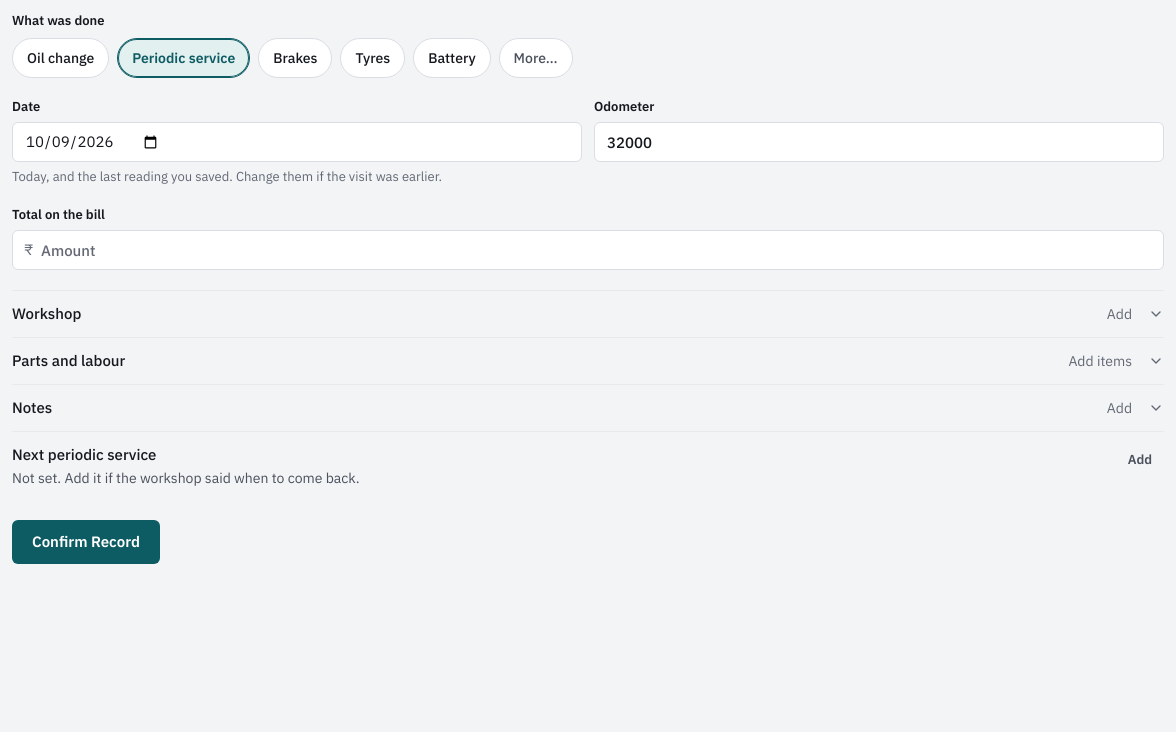
Test: MaintenanceForm › refuses a service at 0 km and an empty total, in words
The width and height of the screenshot is (1176, 732).
Replace the text in the number field labelled "Odometer" with "0". click: (879, 142)
box: 594,122 -> 1164,162
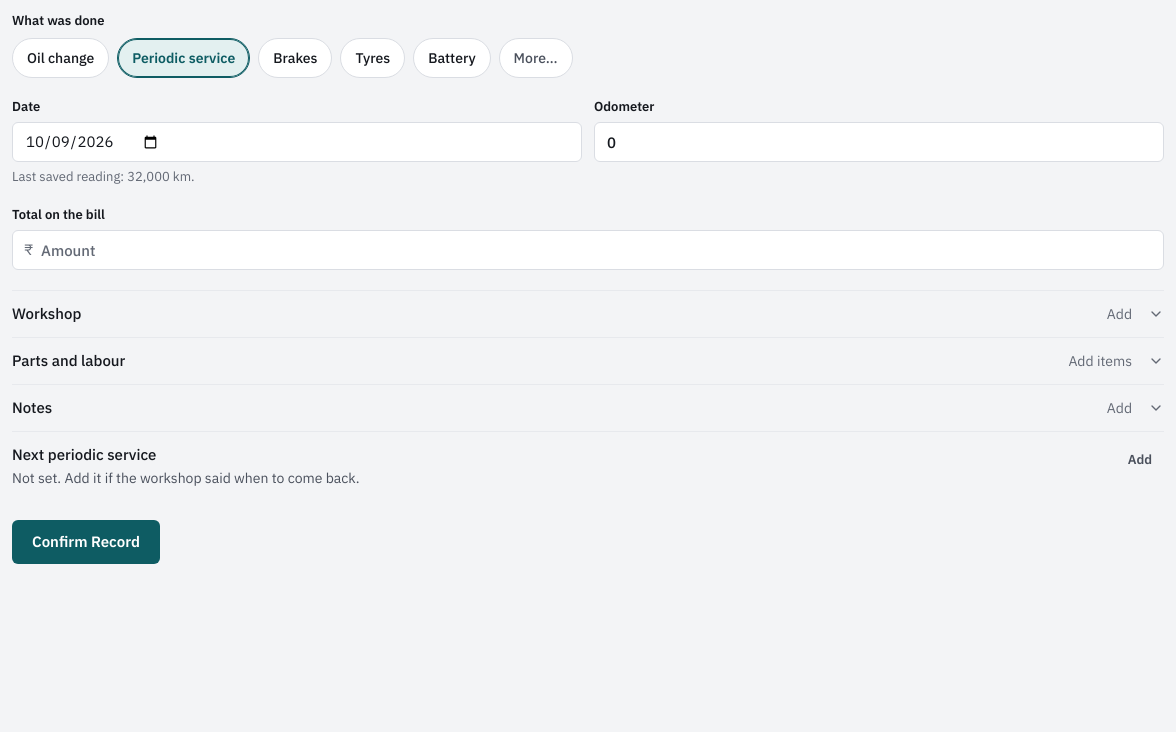
Click the button "Confirm Record". click: (86, 542)
box: 12,520 -> 160,564
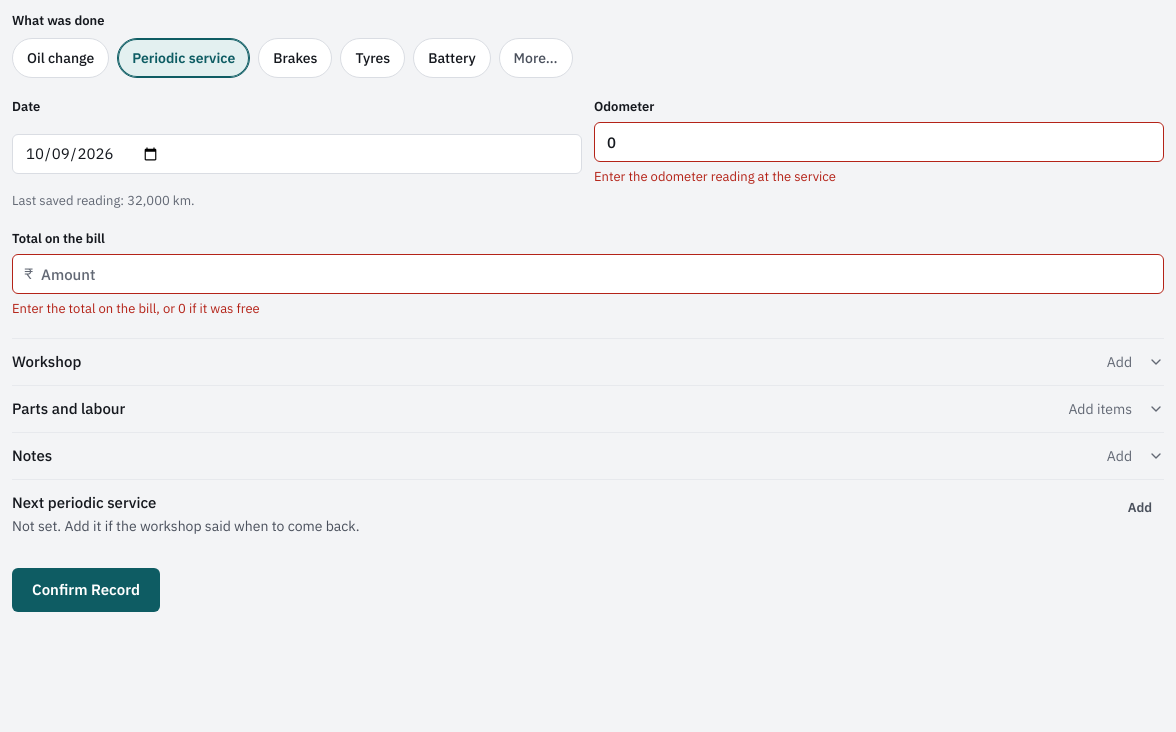
Expected: the text "Enter the total on the bill, or 0 if it was free" is shown, 12,300 -> 260,317
